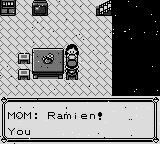leer: (32, 0, 48, 16)
main: (65, 59, 79, 77)
no-caminable: (112, 0, 160, 96), (32, 49, 64, 79), (0, 0, 17, 16)
npc: (65, 44, 79, 60)
puerta: (96, 1, 112, 16)
texto: (0, 97, 159, 143)
